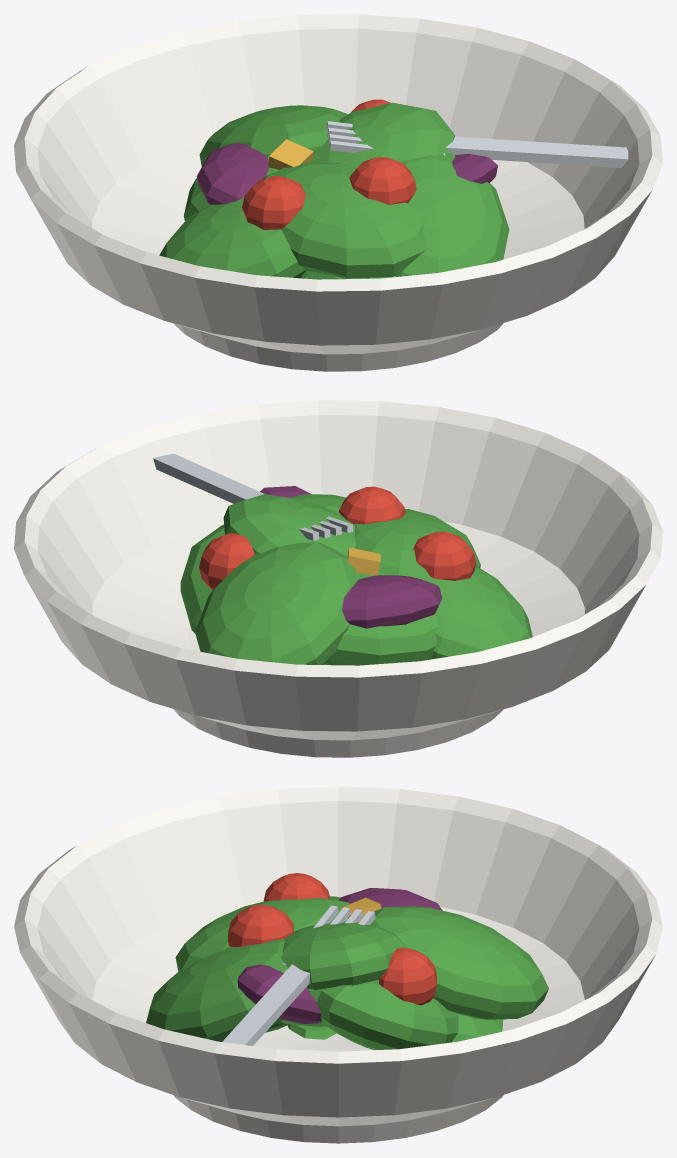
The model's file is salad.glb.
3 renders of one model, top to bottom at view 1: azimuth 30°, elevation 25°; view 2: azimuth 150°, elevation 25°; view 3: azimuth 270°, elevation 25°, orthographic.
Visible parts, largest first — view 1: VesselMesh, SaladFullGreens, SaladFullTomatoes, SaladFork, SaladFullPurple, SaladFullCroutons; view 2: VesselMesh, SaladFullGreens, SaladFullTomatoes, SaladFullPurple, SaladFork, SaladFullCroutons; view 3: VesselMesh, SaladFullGreens, SaladFullTomatoes, SaladFork, SaladFullPurple, SaladPartialGreens.
Part boxes in pixels (left/top/right/bottom): VesselMesh: left=14, top=14, right=662, bottom=371; SaladFullGreens: left=159, top=102, right=509, bottom=278; SaladFullTomatoes: left=242, top=99, right=416, bottom=229; SaladFork: left=326, top=121, right=628, bottom=167; SaladFullPurple: left=196, top=142, right=497, bottom=204; SaladFullCroutons: left=268, top=139, right=313, bottom=169; VesselMesh: left=14, top=400, right=662, bottom=757; SaladFullGreens: left=180, top=494, right=532, bottom=665; SaladFullTomatoes: left=199, top=486, right=476, bottom=590; SaladFullPurple: left=260, top=486, right=442, bottom=628; SaladFork: left=153, top=453, right=353, bottom=540; SaladFullCroutons: left=347, top=547, right=380, bottom=575; VesselMesh: left=14, top=786, right=662, bottom=1143; SaladFullGreens: left=146, top=896, right=548, bottom=1050; SaladFullTomatoes: left=228, top=873, right=436, bottom=1005; SaladFork: left=222, top=905, right=375, bottom=1045; SaladFullPurple: left=237, top=888, right=442, bottom=1023; SaladPartialGreens: left=265, top=979, right=503, bottom=1042.
Size of the model in its own units: 0.22 by 0.0616 by 0.22.
